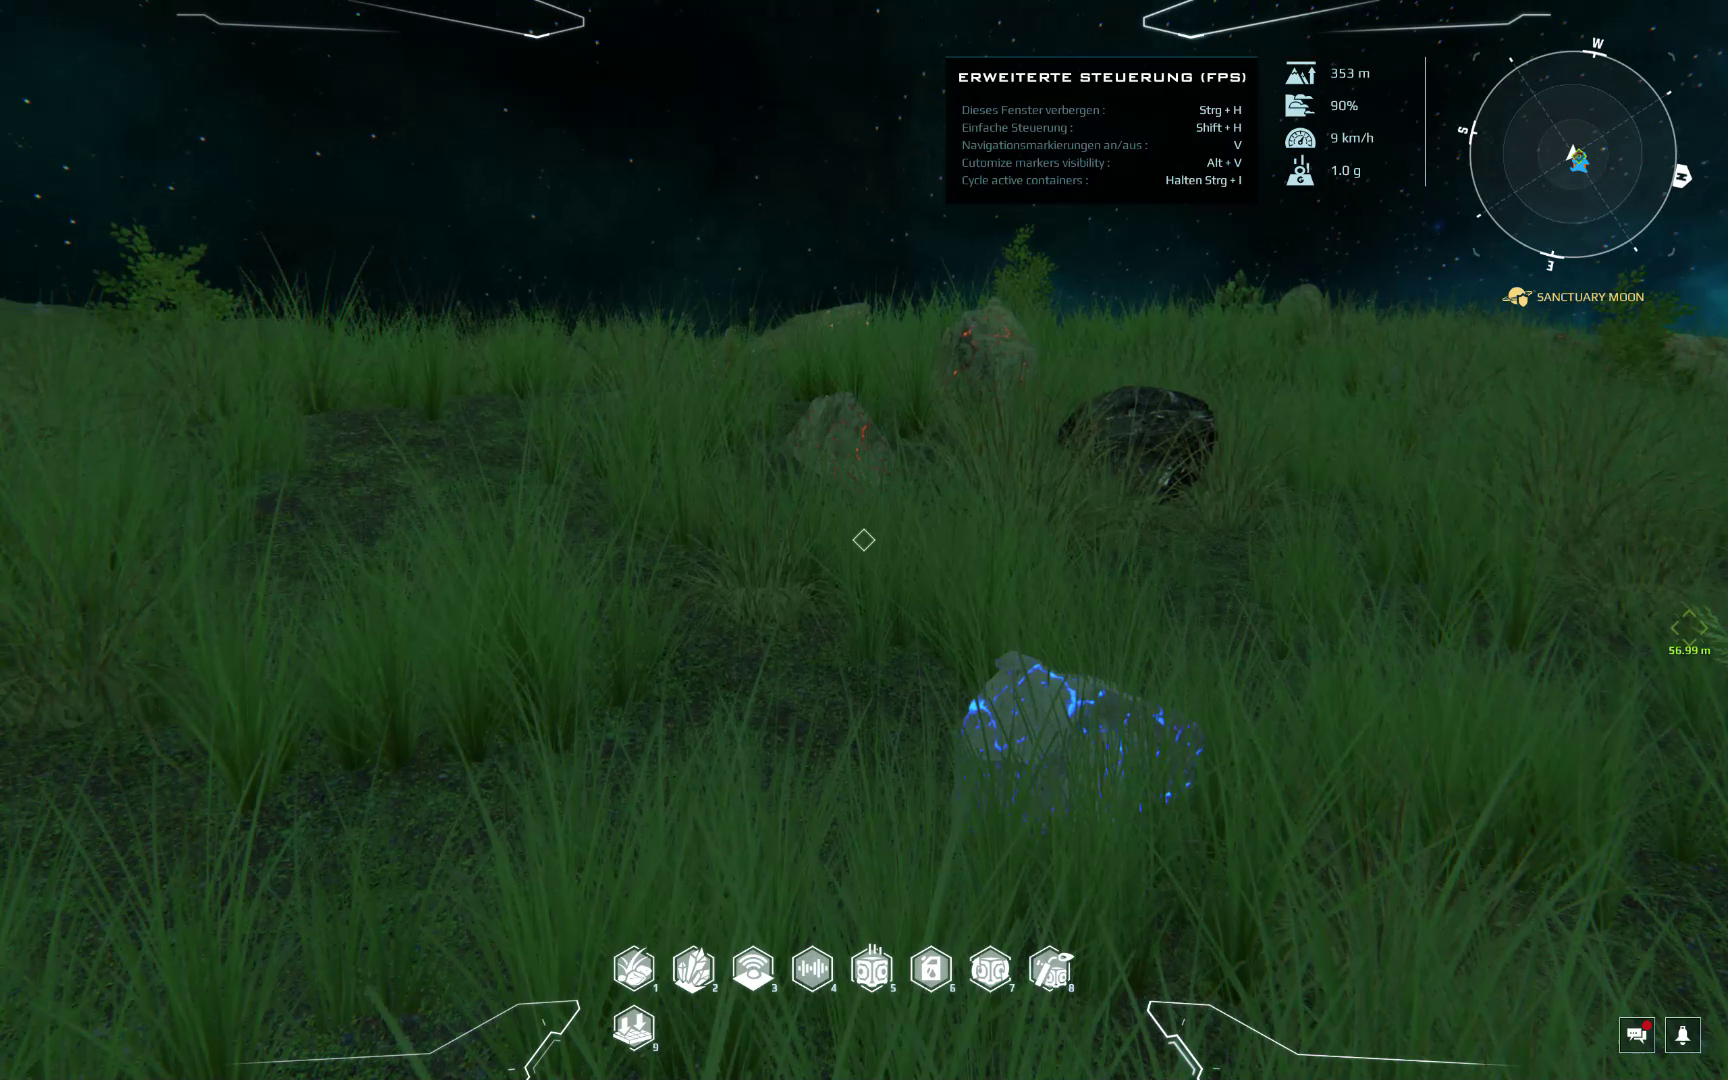Ore: (955, 649, 1225, 822), (1056, 383, 1219, 506), (936, 299, 1039, 437), (785, 391, 899, 491), (753, 299, 875, 343)
